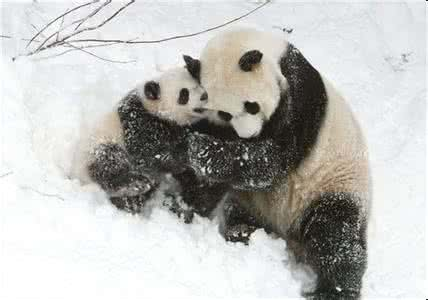panda: (196, 23, 372, 300), (91, 63, 208, 229)
